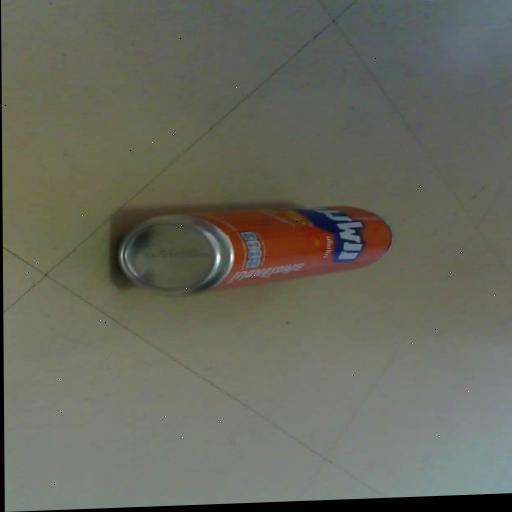canned: (95, 193, 405, 304)
